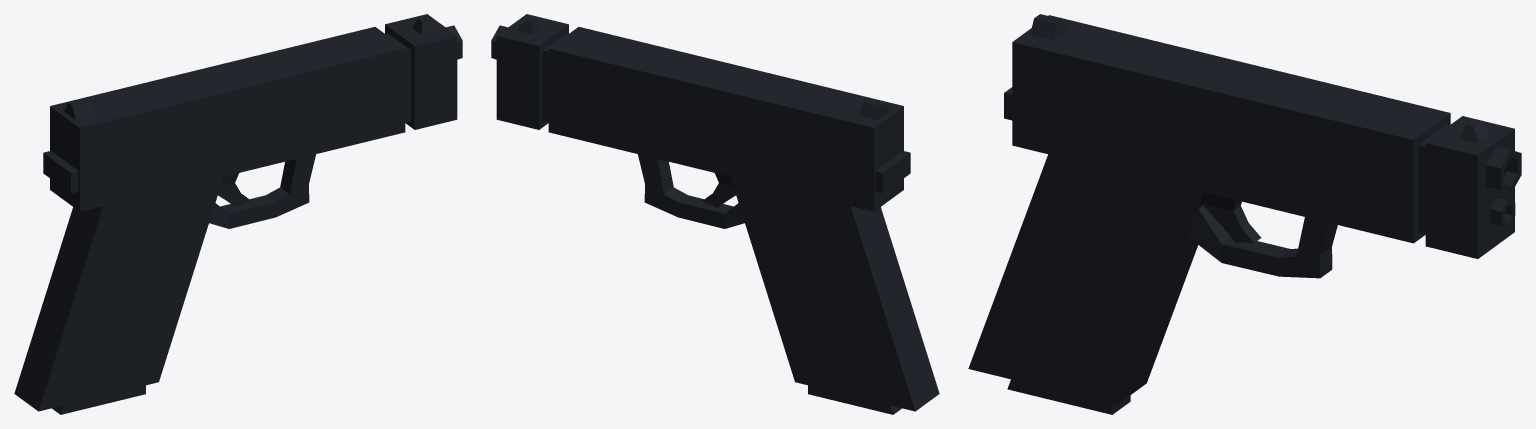
The model's file is pistola.glb.
The picture shows the model from 3 angles, left to right: view 1: azimuth 30°, elevation 25°; view 2: azimuth 150°, elevation 25°; view 3: azimuth 330°, elevation 25°; orthographic projection. The views are drawn at different scales.
Visible parts, largest first — view 1: Cube; view 2: Cube; view 3: Cube.
Boxes of the visible parts, bbox=[...] form: Cube: bbox=[14, 14, 462, 414]; Cube: bbox=[491, 14, 939, 414]; Cube: bbox=[968, 14, 1521, 414].
Bounding box in the file's own units: 0.2344 × 0.1576 × 0.0284.
Materials: 1 (1 with a texture image).
